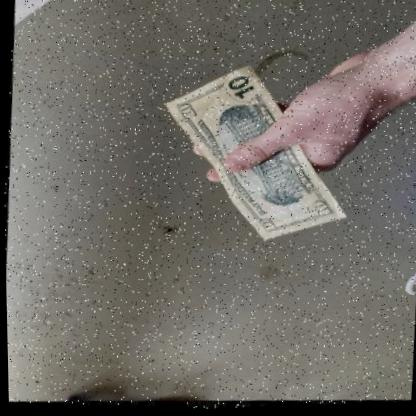ten-back: (163, 67, 344, 243)
